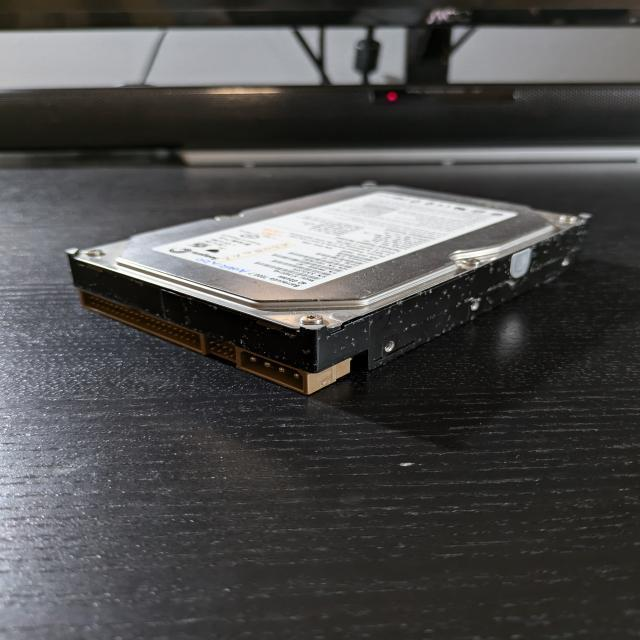DISK: (68, 178, 593, 398)
